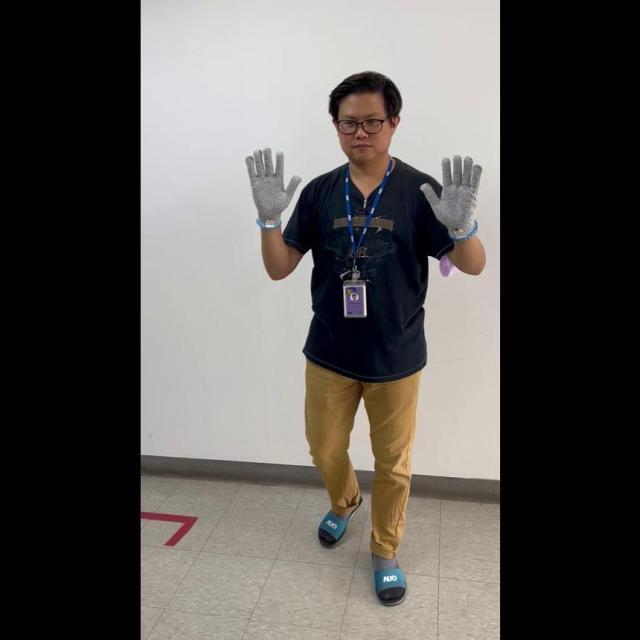gloved_hand: (419, 151, 482, 239), (243, 143, 301, 227)
